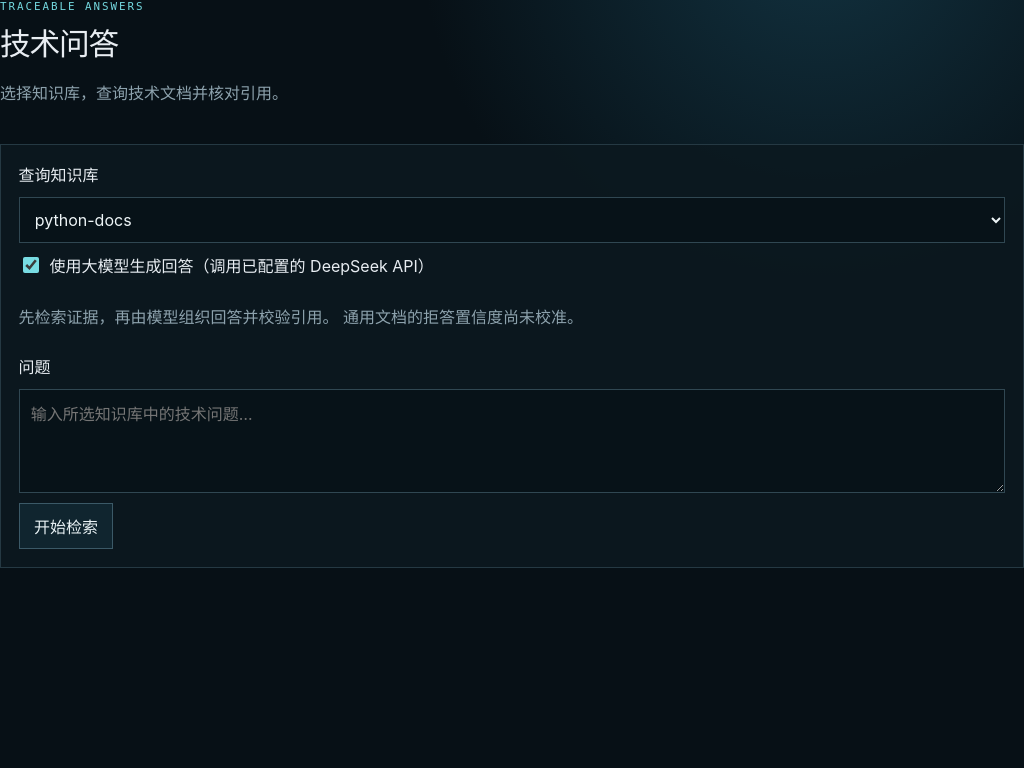
Scenario: requests model generation for imported documents and shows truthful backend decision
The width and height of the screenshot is (1024, 768).
Type "Read INI files?" into the text box labelled "问题". click: [512, 441]
box: [19,388,1005,493]
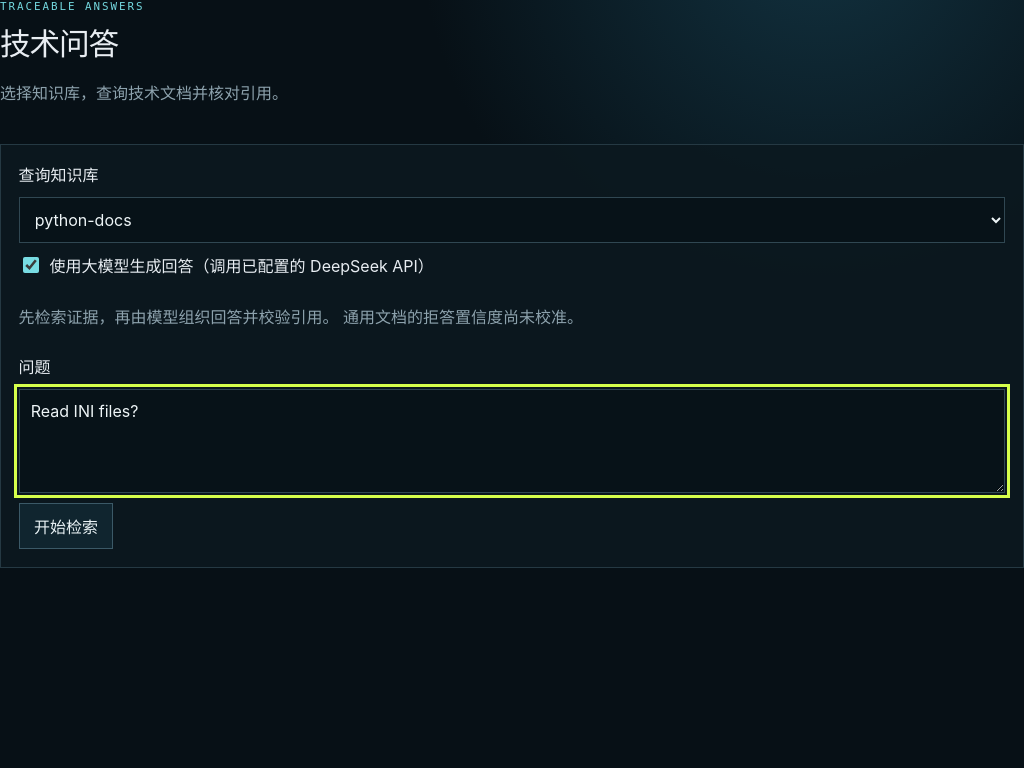
Click the button "开始检索". click: [66, 526]
box: [19,503,113,549]
(page scrolled)
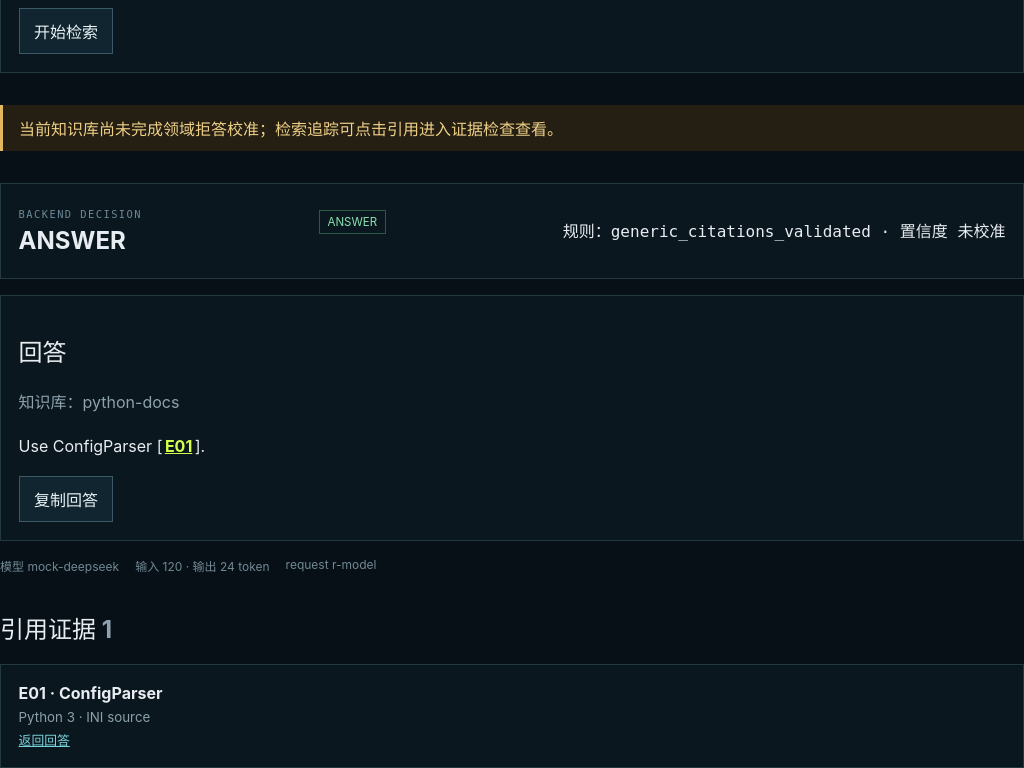
Check: the text "BACKEND DECISION" is shown, box [19,208,142,220]
Check: the text "规则：generic_citations_validated · 置信度 未校准" is shown, box [563,218,1005,242]
Check: the text "模型 mock-deepseek" is shown, box [0,557,119,574]
